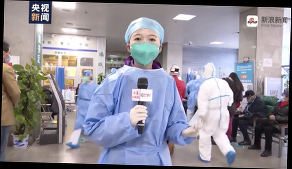with_mask: (128, 32, 161, 66), (4, 51, 12, 64), (82, 74, 91, 83), (280, 94, 289, 103), (246, 96, 255, 105)
